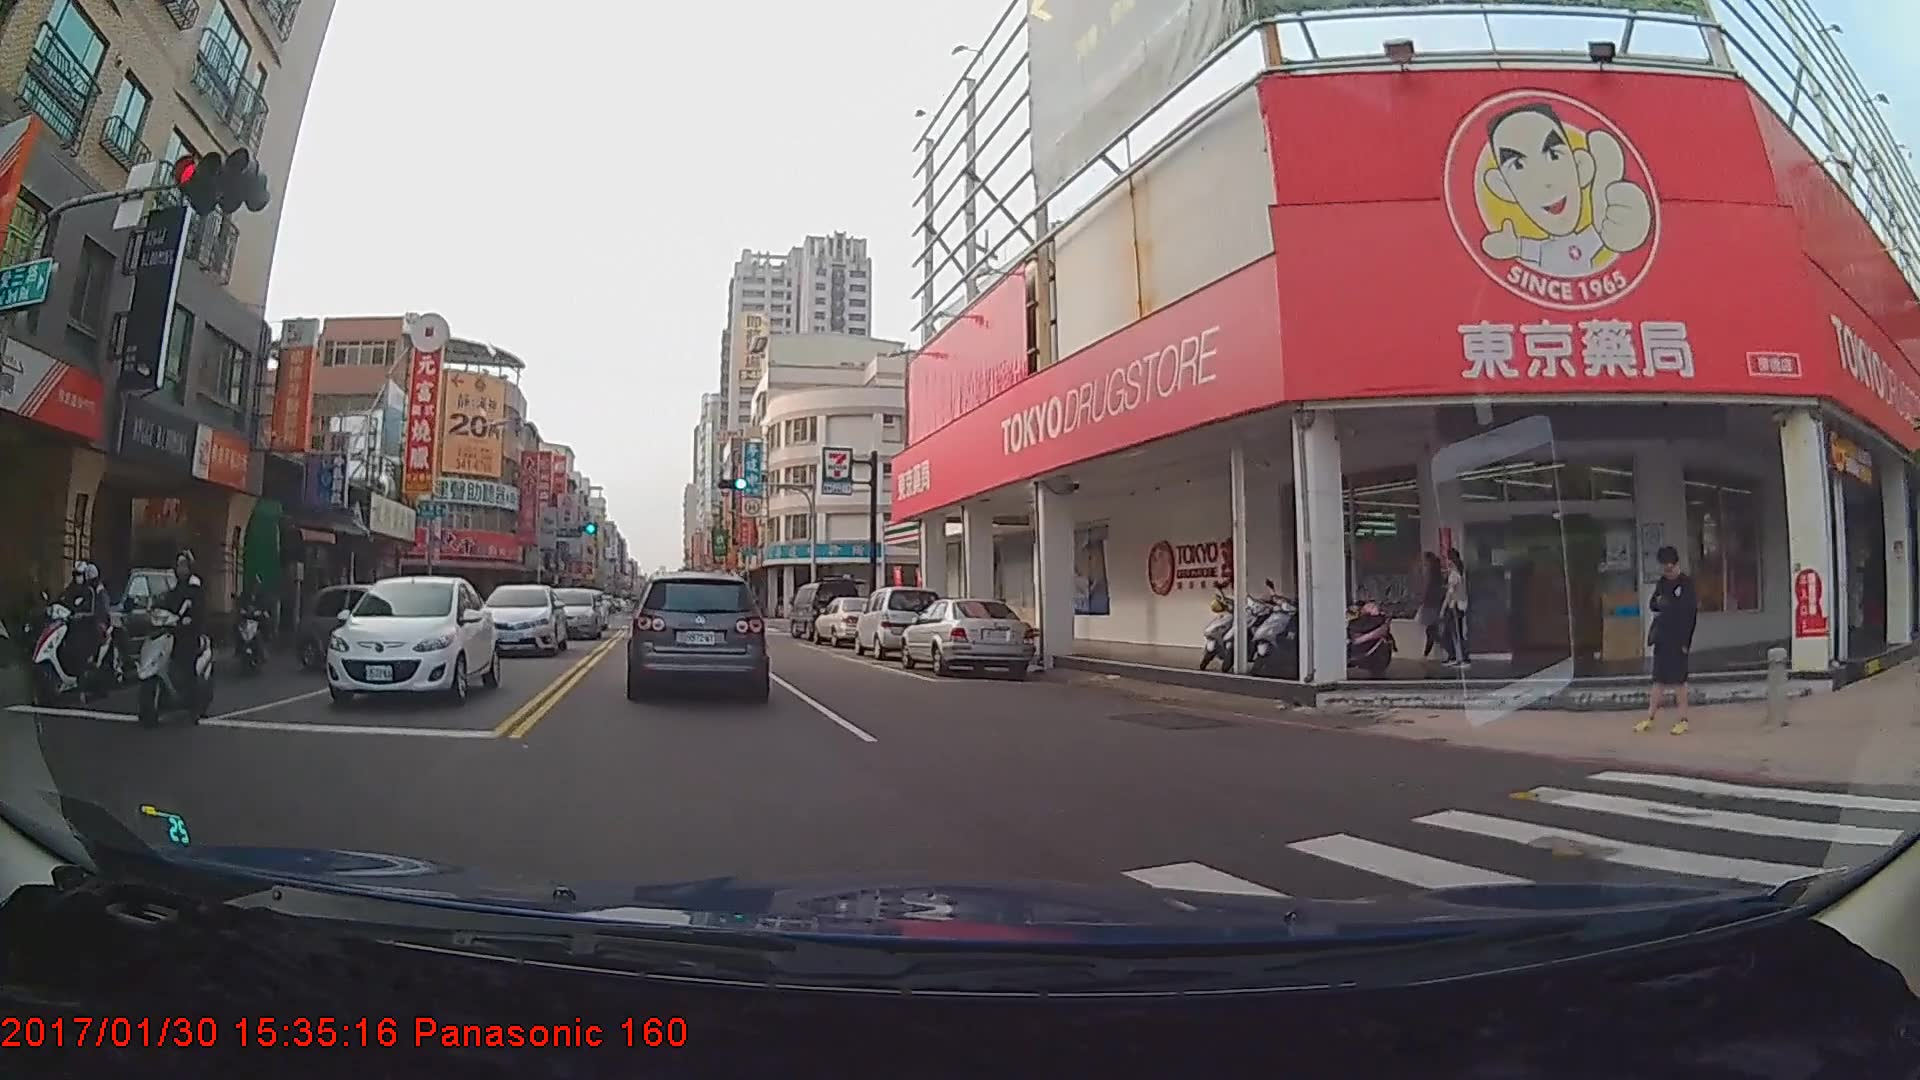pedestrian: (1634, 547, 1704, 737), (1435, 551, 1474, 674), (1419, 550, 1456, 665)
rider: (122, 549, 226, 730), (20, 559, 133, 704)
vehicle: (324, 575, 500, 708), (18, 562, 196, 687), (630, 572, 765, 703), (293, 582, 453, 674), (898, 595, 1035, 679), (852, 585, 944, 660), (477, 581, 567, 654), (793, 582, 857, 638), (814, 596, 889, 641), (544, 587, 600, 639)
